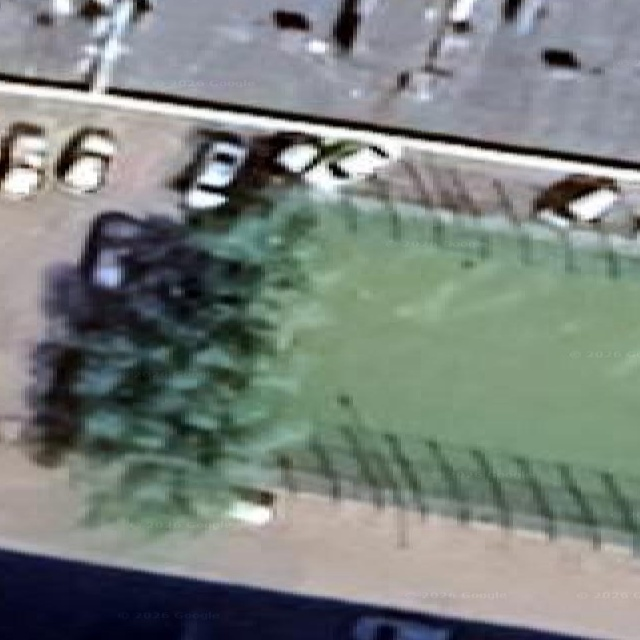car: (172, 131, 399, 212), (67, 212, 207, 327), (273, 132, 397, 188), (176, 132, 247, 212), (532, 173, 620, 230), (303, 140, 399, 190), (80, 212, 140, 289), (240, 131, 320, 187), (55, 128, 116, 193), (35, 0, 152, 33), (0, 123, 47, 199), (350, 615, 451, 639), (331, 144, 395, 180), (273, 131, 319, 175), (540, 48, 603, 79), (228, 488, 272, 526), (503, 0, 547, 35), (303, 160, 352, 190), (332, 0, 360, 52), (540, 48, 582, 75), (67, 0, 121, 18), (271, 8, 310, 32), (447, 0, 475, 32), (77, 0, 116, 15), (123, 0, 151, 20), (51, 0, 75, 16), (62, 0, 72, 3), (54, 11, 55, 12)
